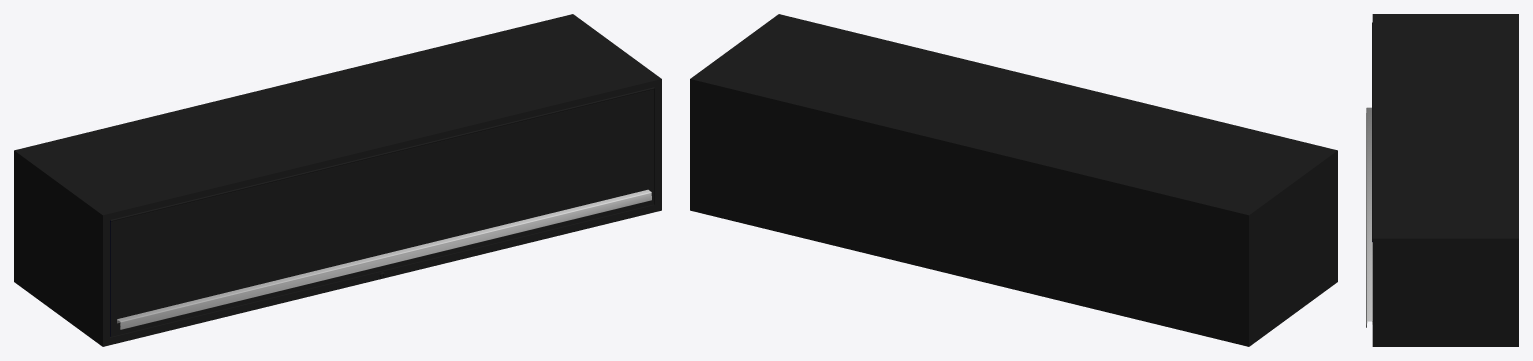
File: overHeads80.glb
The picture shows the model from 3 angles, left to right: view 1: azimuth 30°, elevation 25°; view 2: azimuth 150°, elevation 25°; view 3: azimuth 270°, elevation 25°; orthographic projection. The views are drawn at different scales.
Visible parts, largest first — view 1: shellFp, doors, handlesFp, hingeFp; view 2: shellFp; view 3: shellFp, handlesFp, hingeFp.
Part boxes in pixels (x1,y1,x2,y2): shellFp: (14,14,661,346); doors: (110,89,654,336); handlesFp: (117,189,651,329); hingeFp: (111,87,654,221); shellFp: (690,14,1337,346); shellFp: (1372,14,1518,346); handlesFp: (1366,107,1372,327); hingeFp: (1372,22,1372,240).
Size of the model in its own units: 2.03 by 0.4572 by 0.5842.
Materials: 4 (1 with a texture image).
